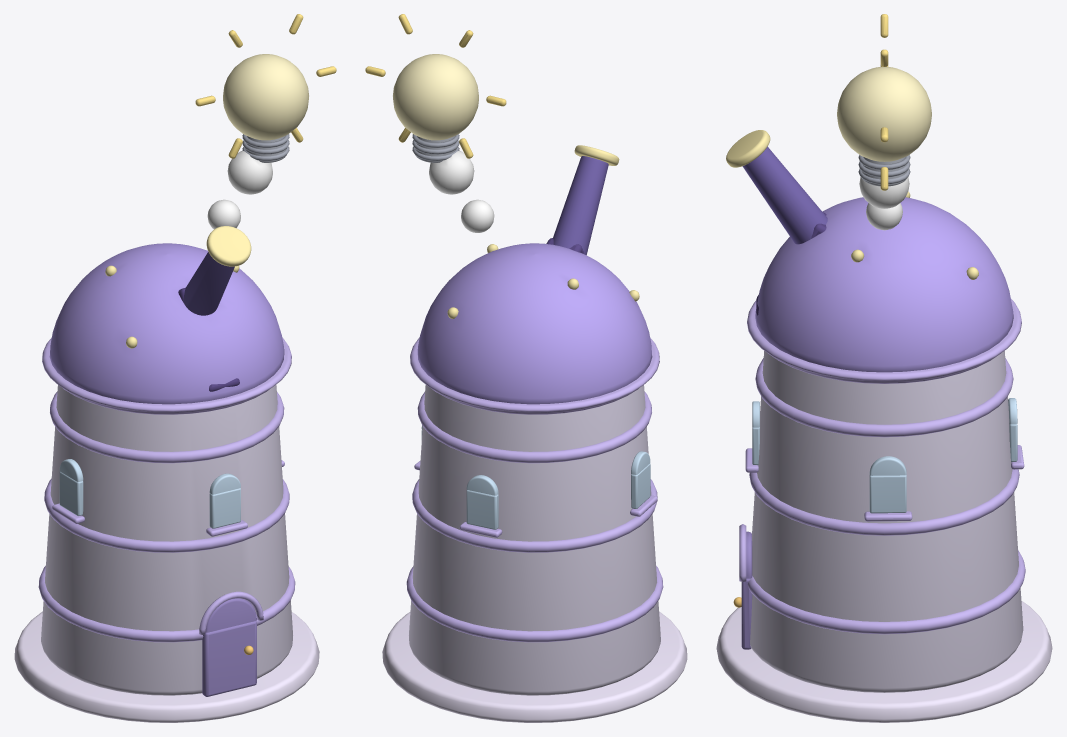
The model's file is tower.glb.
3 renders of one model, left to right at view 1: azimuth 30°, elevation 25°; view 2: azimuth 150°, elevation 25°; view 3: azimuth 270°, elevation 25°, orthographic. The views are drawn at different scales.
Parts seen in each view (by area): view 1: tower.001, cap, base, glass, door, band_1, band_2, ledge, band_0, scope, lens, bubble_1 (+5 smaller); view 2: tower.001, cap, base, glass, band_0, band_2, band_1, ledge, scope, bubble_1, win_2, bubble_0 (+1 smaller); view 3: tower.001, cap, base, glass, band_0, band_2, band_1, ledge, scope, win_1, lens, bubble_1 (+3 smaller).
Boxes of the visible parts, x1,y1,x2,y2 form: tower.001: [41, 385, 292, 695]; cap: [49, 243, 284, 404]; base: [14, 611, 319, 722]; glass: [223, 54, 308, 140]; door: [202, 621, 256, 696]; band_1: [44, 478, 289, 552]; band_2: [50, 391, 284, 463]; ledge: [42, 337, 291, 414]; band_0: [38, 565, 295, 642]; scope: [184, 252, 234, 315]; lens: [206, 226, 251, 266]; bubble_1: [227, 150, 272, 194]; tower.001: [409, 385, 660, 695]; cap: [417, 243, 652, 404]; base: [382, 611, 687, 722]; glass: [393, 54, 478, 140]; band_0: [406, 565, 663, 642]; band_2: [417, 391, 651, 463]; band_1: [412, 479, 657, 552]; ledge: [410, 337, 659, 414]; scope: [553, 156, 608, 255]; bubble_1: [429, 150, 474, 194]; win_2: [466, 490, 498, 529]; bubble_0: [461, 199, 494, 232]; tower.001: [750, 351, 1023, 692]; cap: [755, 197, 1013, 372]; base: [716, 601, 1052, 722]; glass: [837, 67, 931, 161]; band_0: [747, 550, 1025, 634]; band_2: [755, 358, 1013, 437]; band_1: [749, 469, 1019, 535]; ledge: [747, 299, 1021, 383]; scope: [742, 146, 827, 244]; win_1: [869, 475, 906, 513]; lens: [726, 130, 770, 167]; bubble_1: [859, 177, 909, 208].
Bounding box in the file's own units: 2.89 × 5.63 × 2.54.
